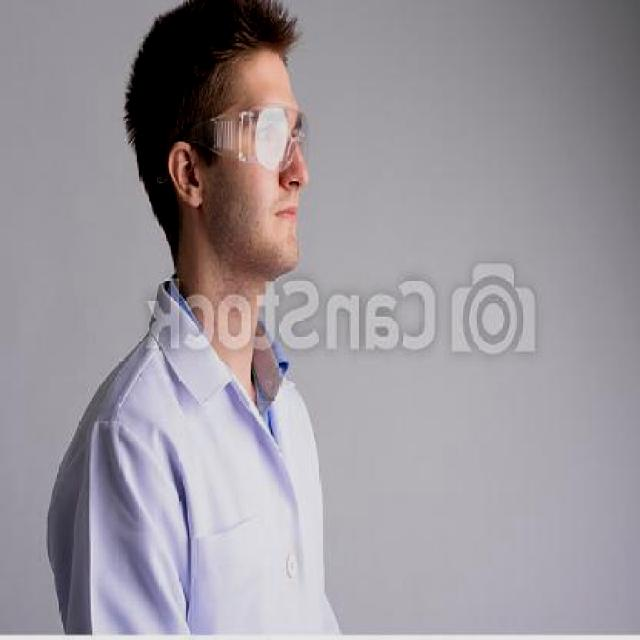face_nomask: (245, 111, 317, 237)
glasses: (182, 100, 318, 177)
head_nohelmet: (113, 0, 319, 78)
person: (14, 0, 363, 640)
